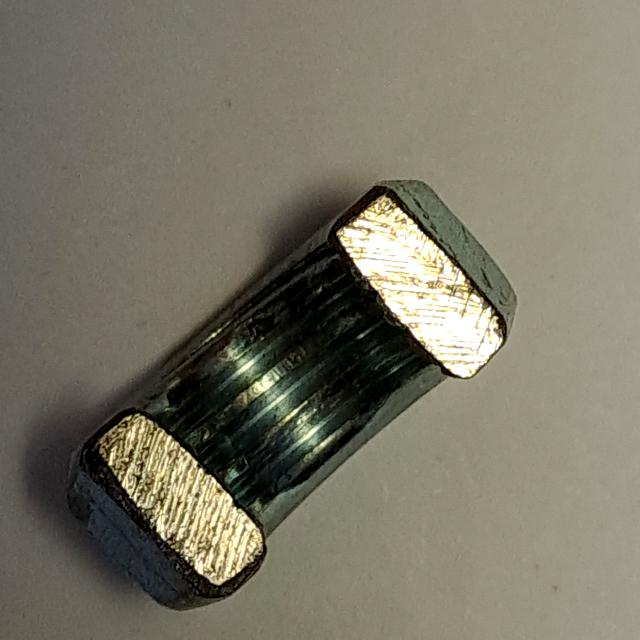Side-Fracture: (49, 164, 541, 623)
